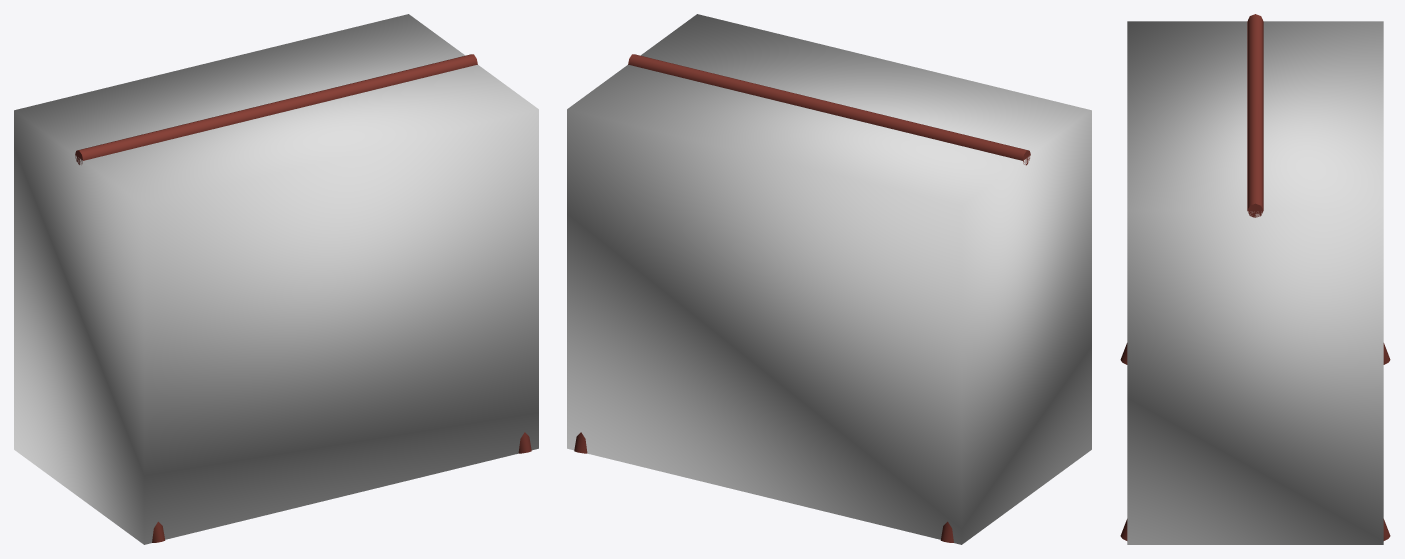
Rendered from columpio.glb.
The picture shows the model from 3 angles, left to right: view 1: azimuth 30°, elevation 25°; view 2: azimuth 150°, elevation 25°; view 3: azimuth 270°, elevation 25°; orthographic projection.
Parts seen in each view (by area): view 1: columpio-colcaja, columpio; view 2: columpio-colcaja, columpio; view 3: columpio-colcaja, columpio.
Part boxes in pixels (<box>): columpio-colcaja: <box>14,14,538,544</box>; columpio: <box>75,54,531,542</box>; columpio-colcaja: <box>567,14,1091,544</box>; columpio: <box>574,54,1030,542</box>; columpio-colcaja: <box>1127,21,1383,544</box>; columpio: <box>1120,14,1390,540</box>.
Bounding box in the file's own units: 2.8 × 2.36 × 1.69.
